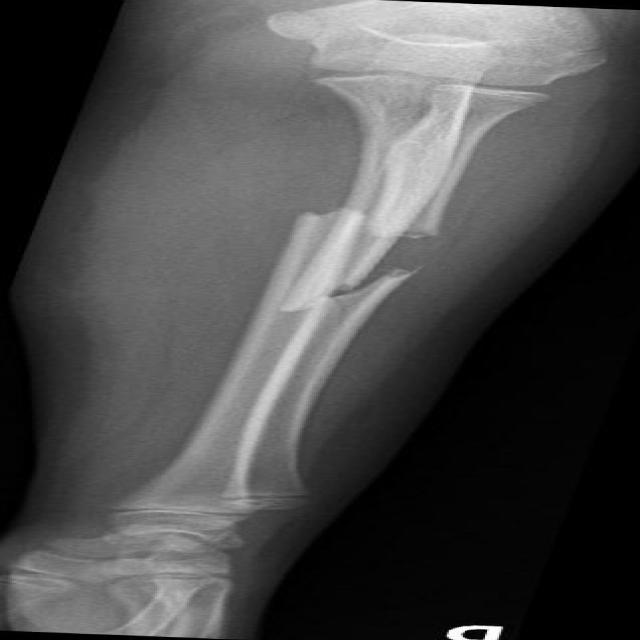Oblique: (230, 188, 471, 332)
